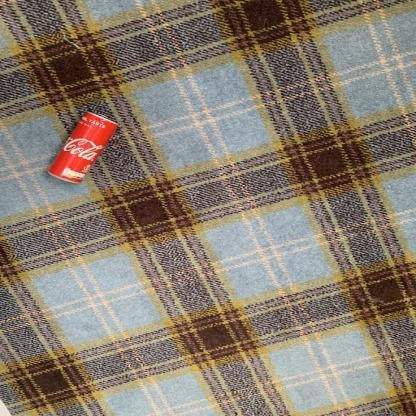trash: (48, 113, 117, 182)
